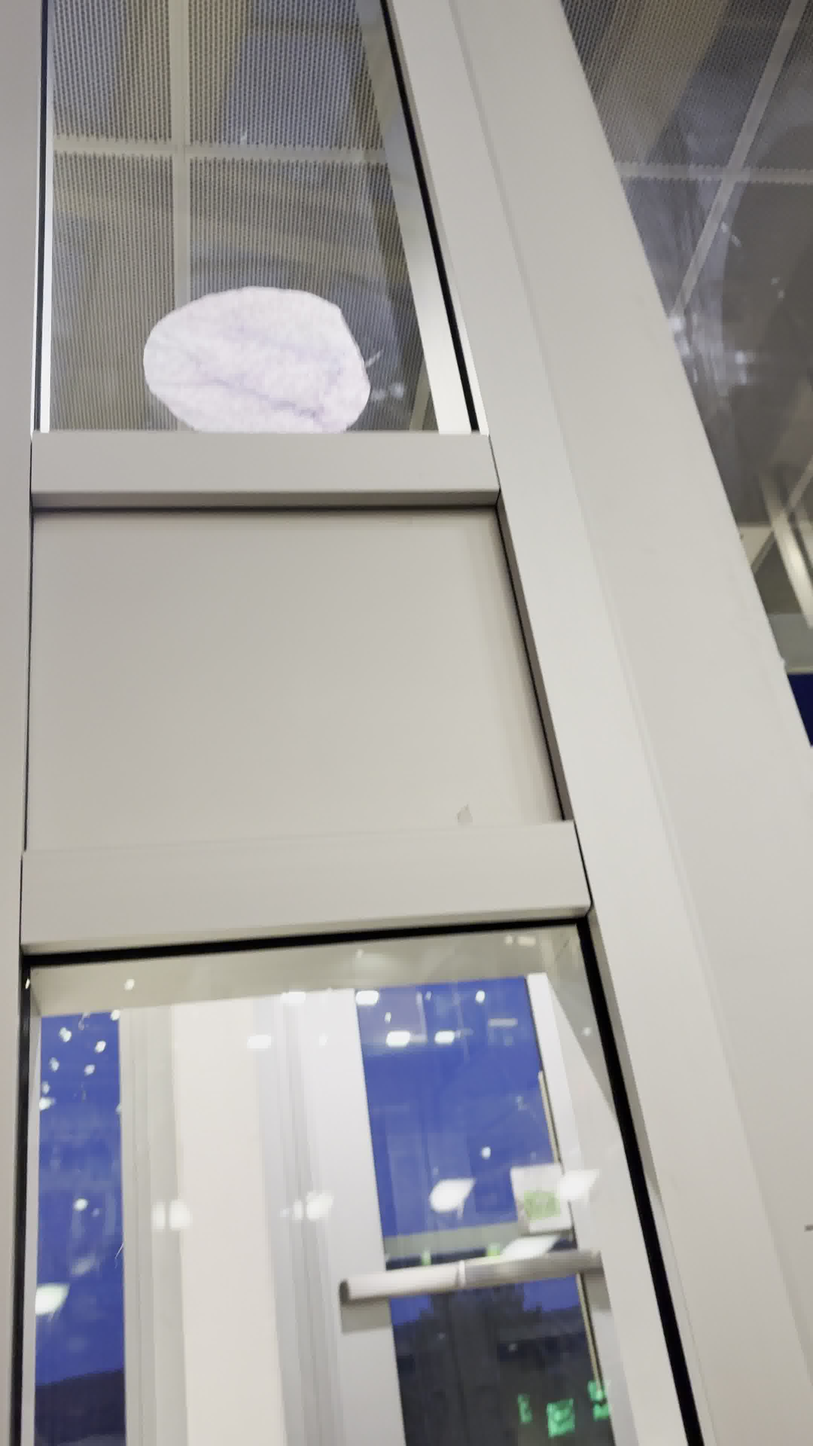Target: (140, 283, 375, 437)
